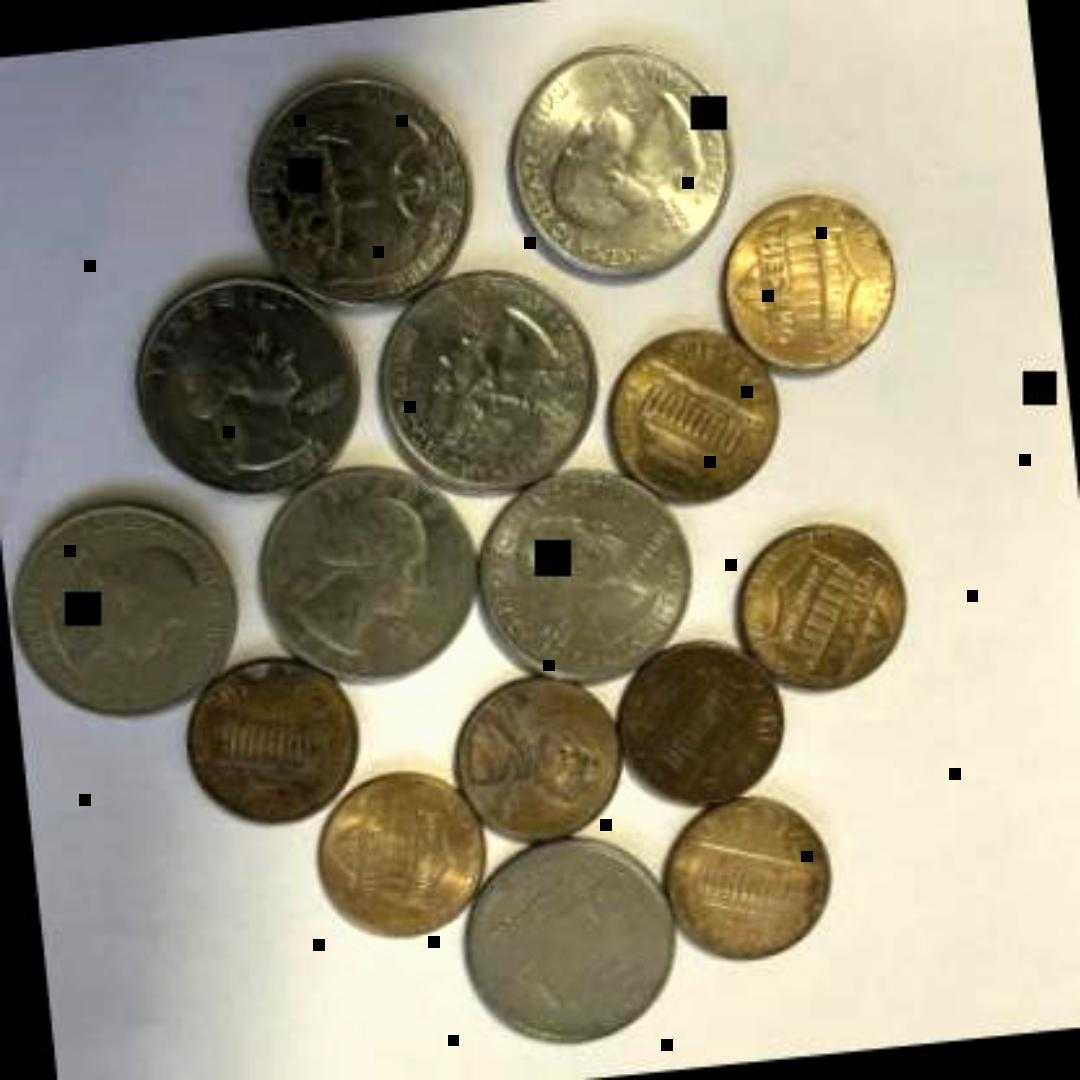Penny: (702, 177, 908, 379), (592, 308, 786, 514), (722, 508, 914, 697), (301, 753, 490, 945), (601, 630, 793, 814), (653, 784, 839, 968), (438, 665, 624, 849), (178, 650, 362, 828)
Quarter: (232, 53, 488, 320), (490, 31, 738, 288), (0, 474, 244, 730), (362, 254, 608, 504), (125, 261, 371, 505), (442, 820, 683, 1060), (465, 455, 701, 696), (248, 453, 484, 691)
